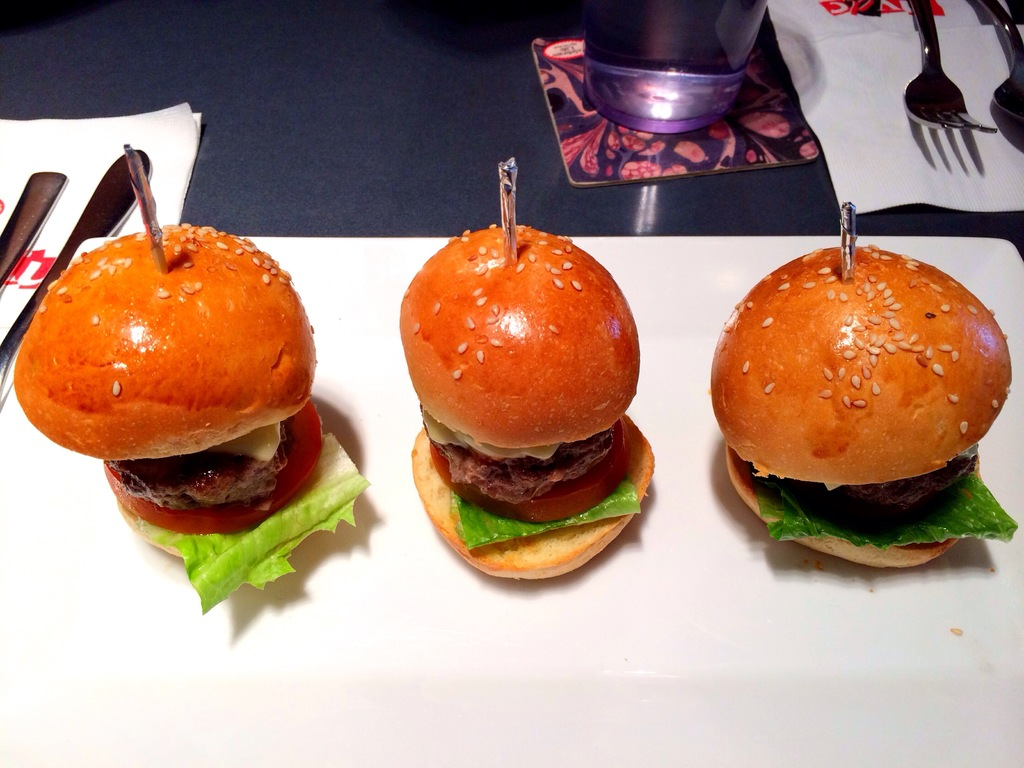Hamburger: (11, 219, 366, 616), (704, 245, 1023, 568), (397, 224, 654, 584)
